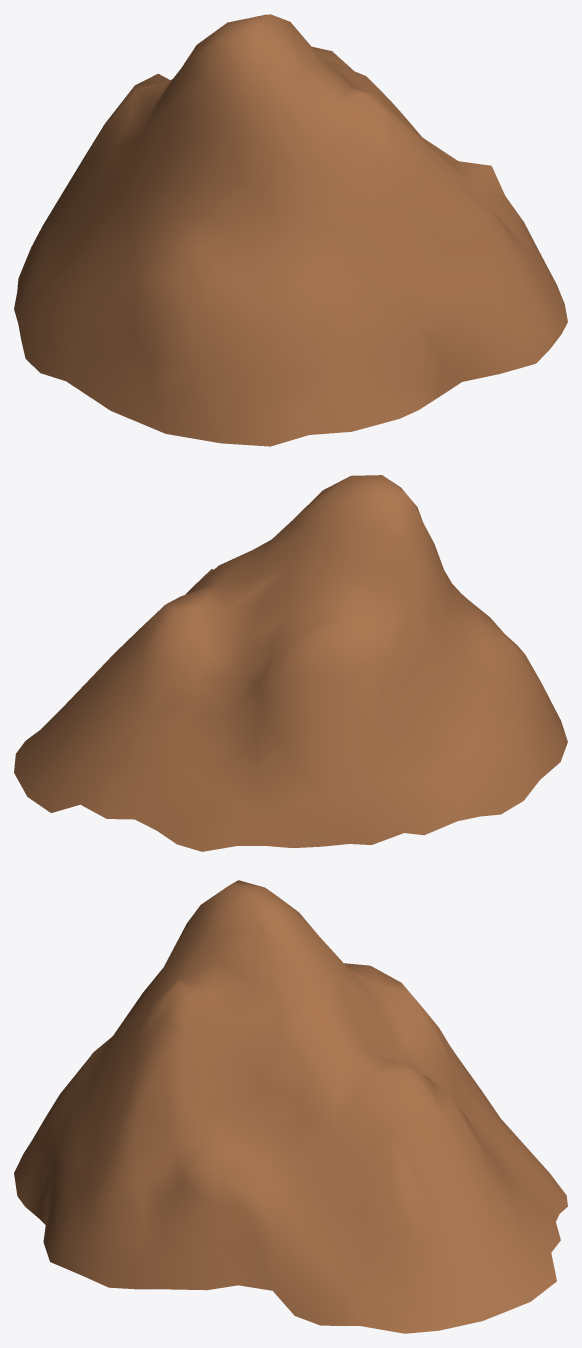
File: SM_Mountain_02.fbx
3 views of the same model, one above another, from view 1: azimuth 30°, elevation 25°; view 2: azimuth 150°, elevation 25°; view 3: azimuth 270°, elevation 25° (orthographic). The views are drawn at different scales.
Visible parts, largest first — view 1: SM_Moutain_02; view 2: SM_Moutain_02; view 3: SM_Moutain_02.
Part boxes in pixels (left/top/right/bottom): SM_Moutain_02: left=14, top=14, right=567, bottom=446; SM_Moutain_02: left=14, top=475, right=567, bottom=851; SM_Moutain_02: left=14, top=880, right=567, bottom=1333.
Bounding box in the file's own units: 8904 × 5333 × 8884.
